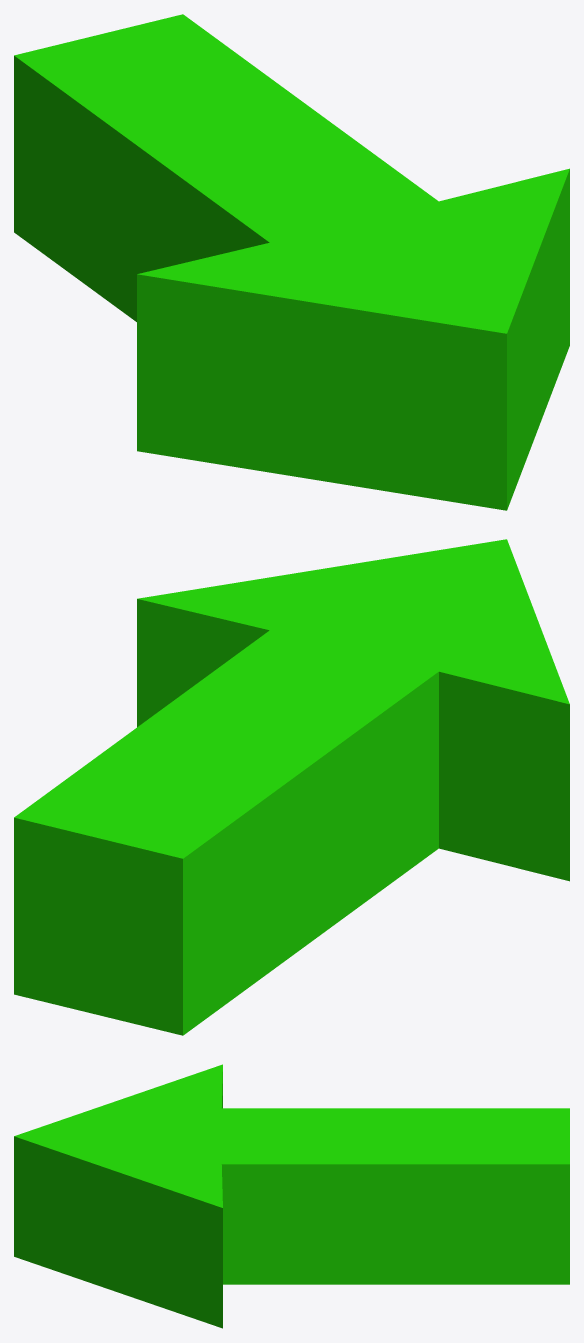
Rendered from Marker-Arrow.fbx.
The picture shows the model from 3 angles, top to bottom: view 1: azimuth 30°, elevation 25°; view 2: azimuth 150°, elevation 25°; view 3: azimuth 270°, elevation 25°; orthographic projection. The views are drawn at different scales.
Visible parts, largest first — view 1: Marker-Arrow; view 2: Marker-Arrow; view 3: Marker-Arrow.
Boxes of the visible parts, bbox=[...] form: Marker-Arrow: bbox=[14, 14, 569, 510]; Marker-Arrow: bbox=[14, 539, 569, 1035]; Marker-Arrow: bbox=[14, 1064, 569, 1328].
Size of the model in its own units: 512 by 200 by 837.
